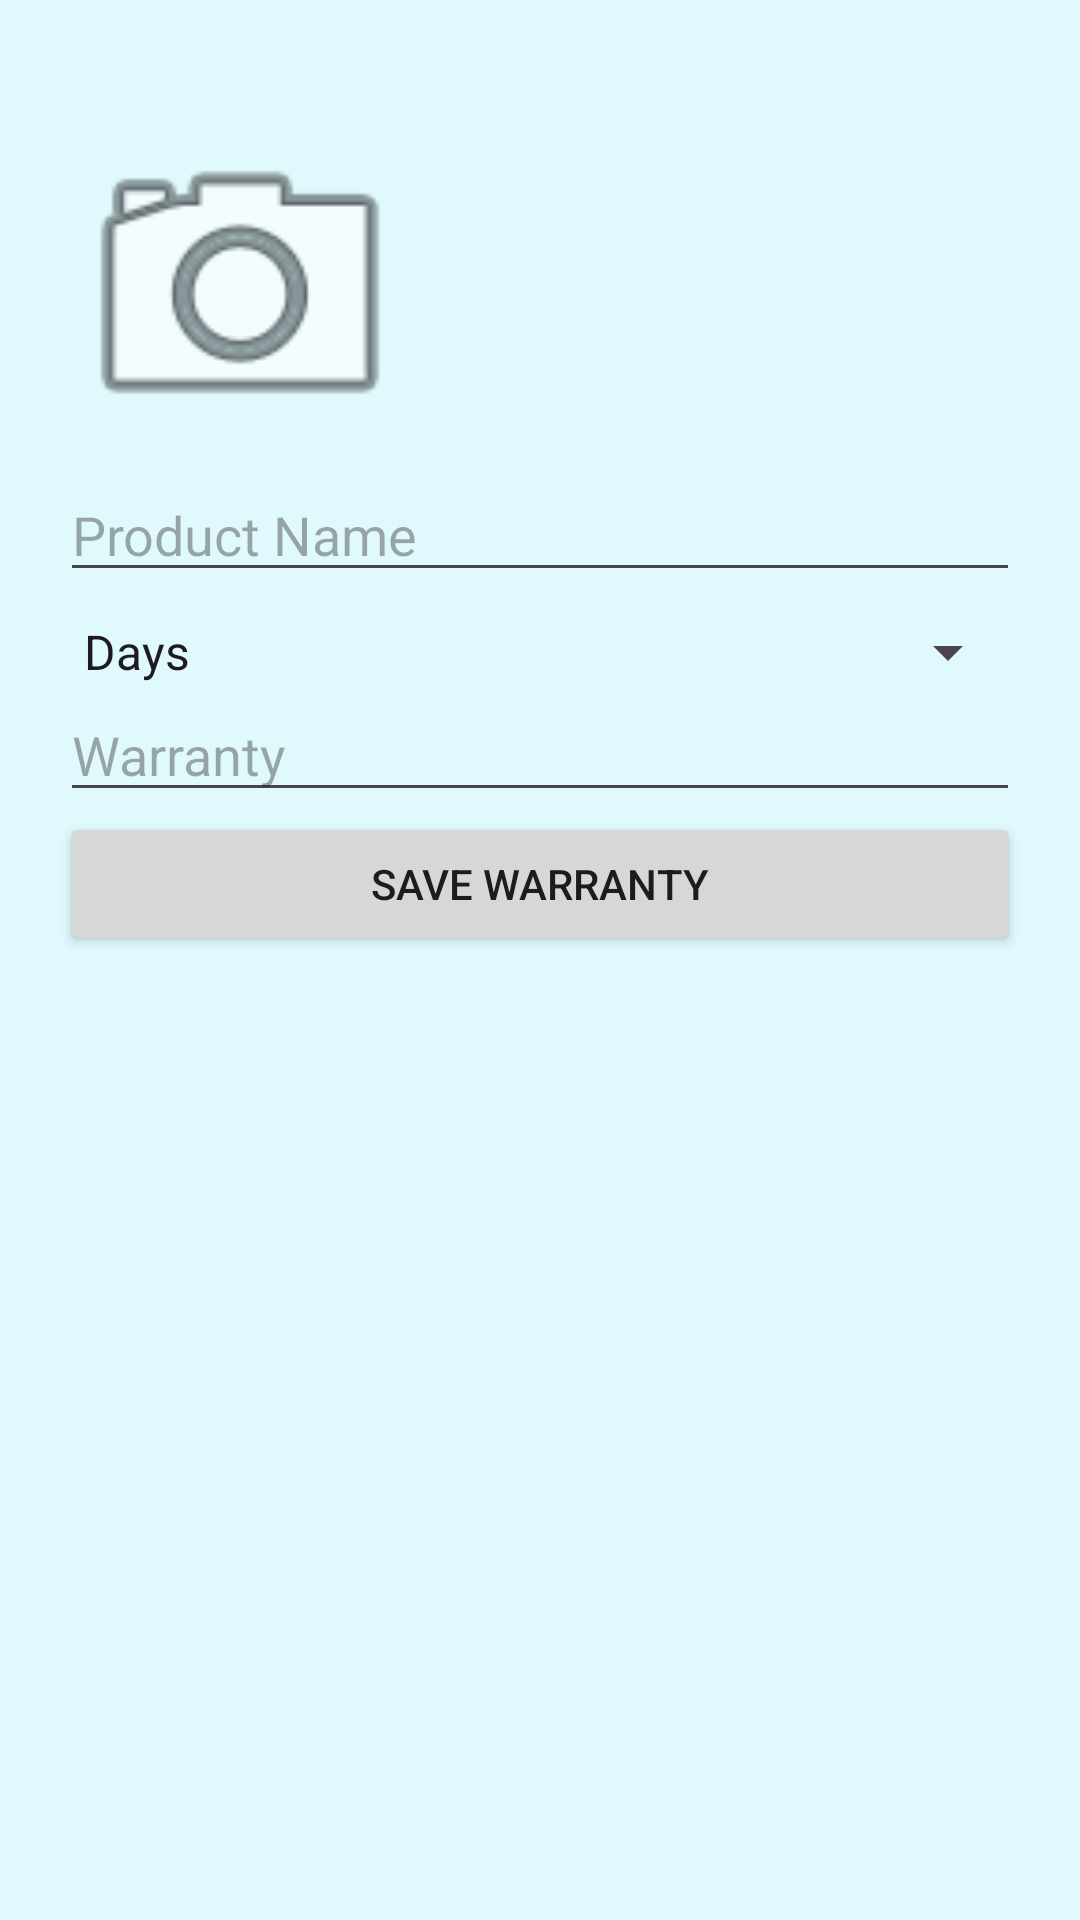

Named icons in this screenshot (1080px x 1920px) and their bounding boxes, (x1, y1, x2, y2):
camera: (100, 170, 380, 394)
